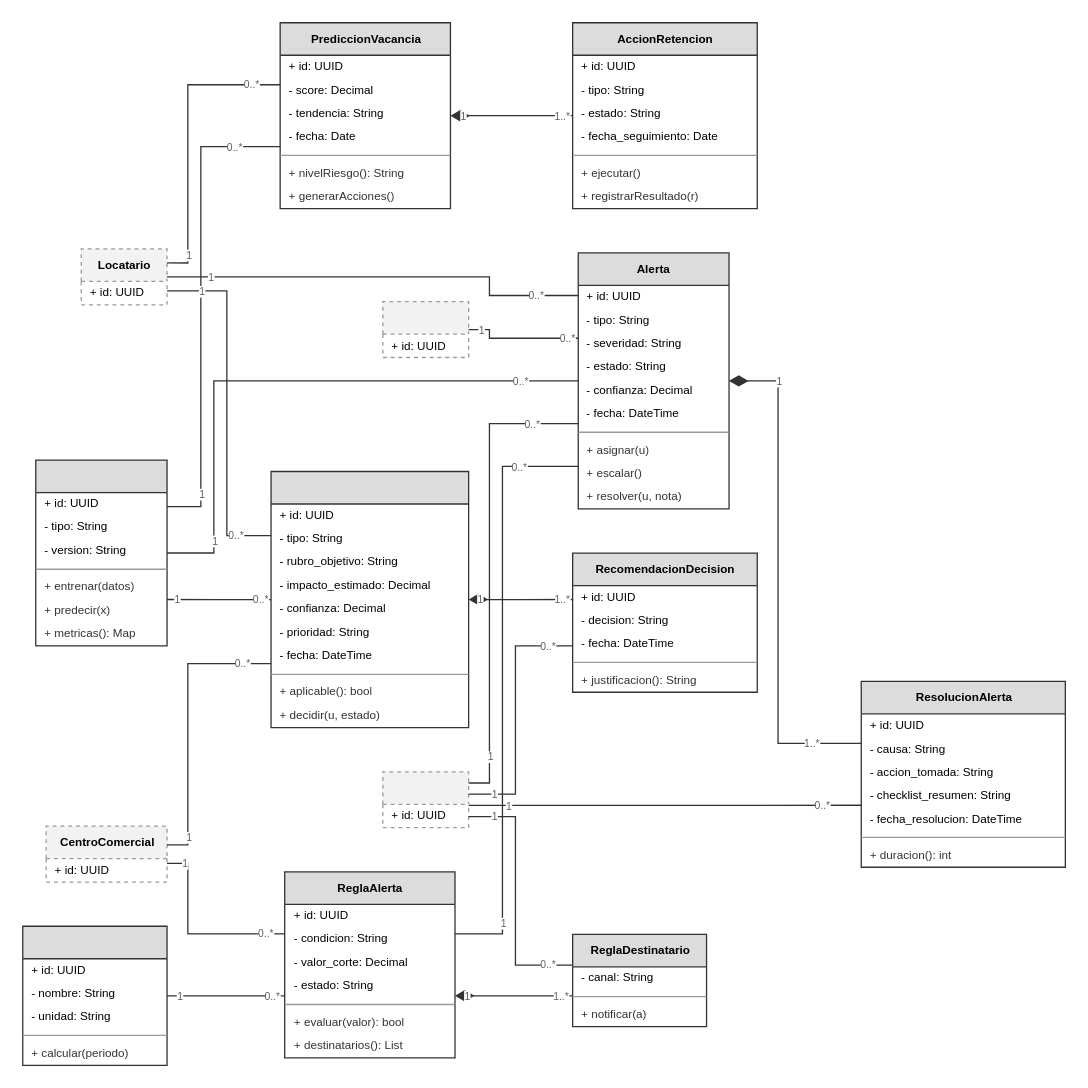
The diagram is 1088 pixels wide and 1088 high, and some of its shapes have lost their labels. The box of each missing label's shape, as (x1, y1, x2, y2) in pixels:
Indicador: (21, 925, 167, 1065)
ModeloML: (34, 459, 167, 646)
Recomendacion: (270, 470, 469, 728)
Usuario: (382, 771, 469, 828)
Zona: (382, 300, 469, 358)
